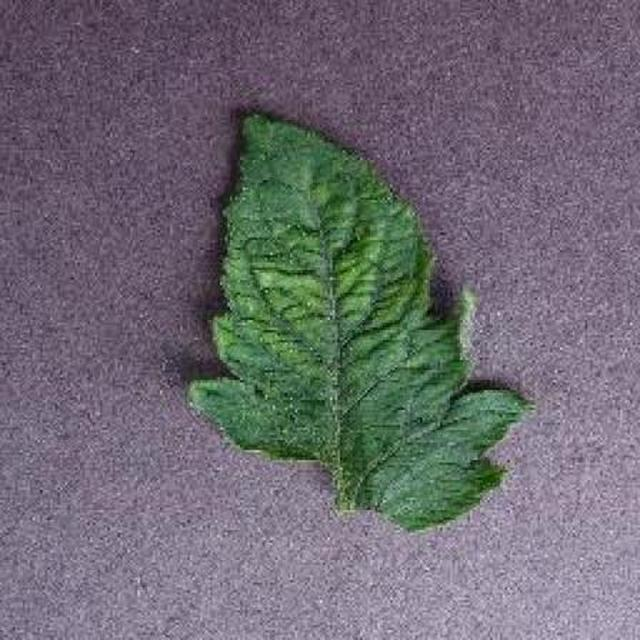Mosaic Virus Leaf: (269, 152, 640, 640)
